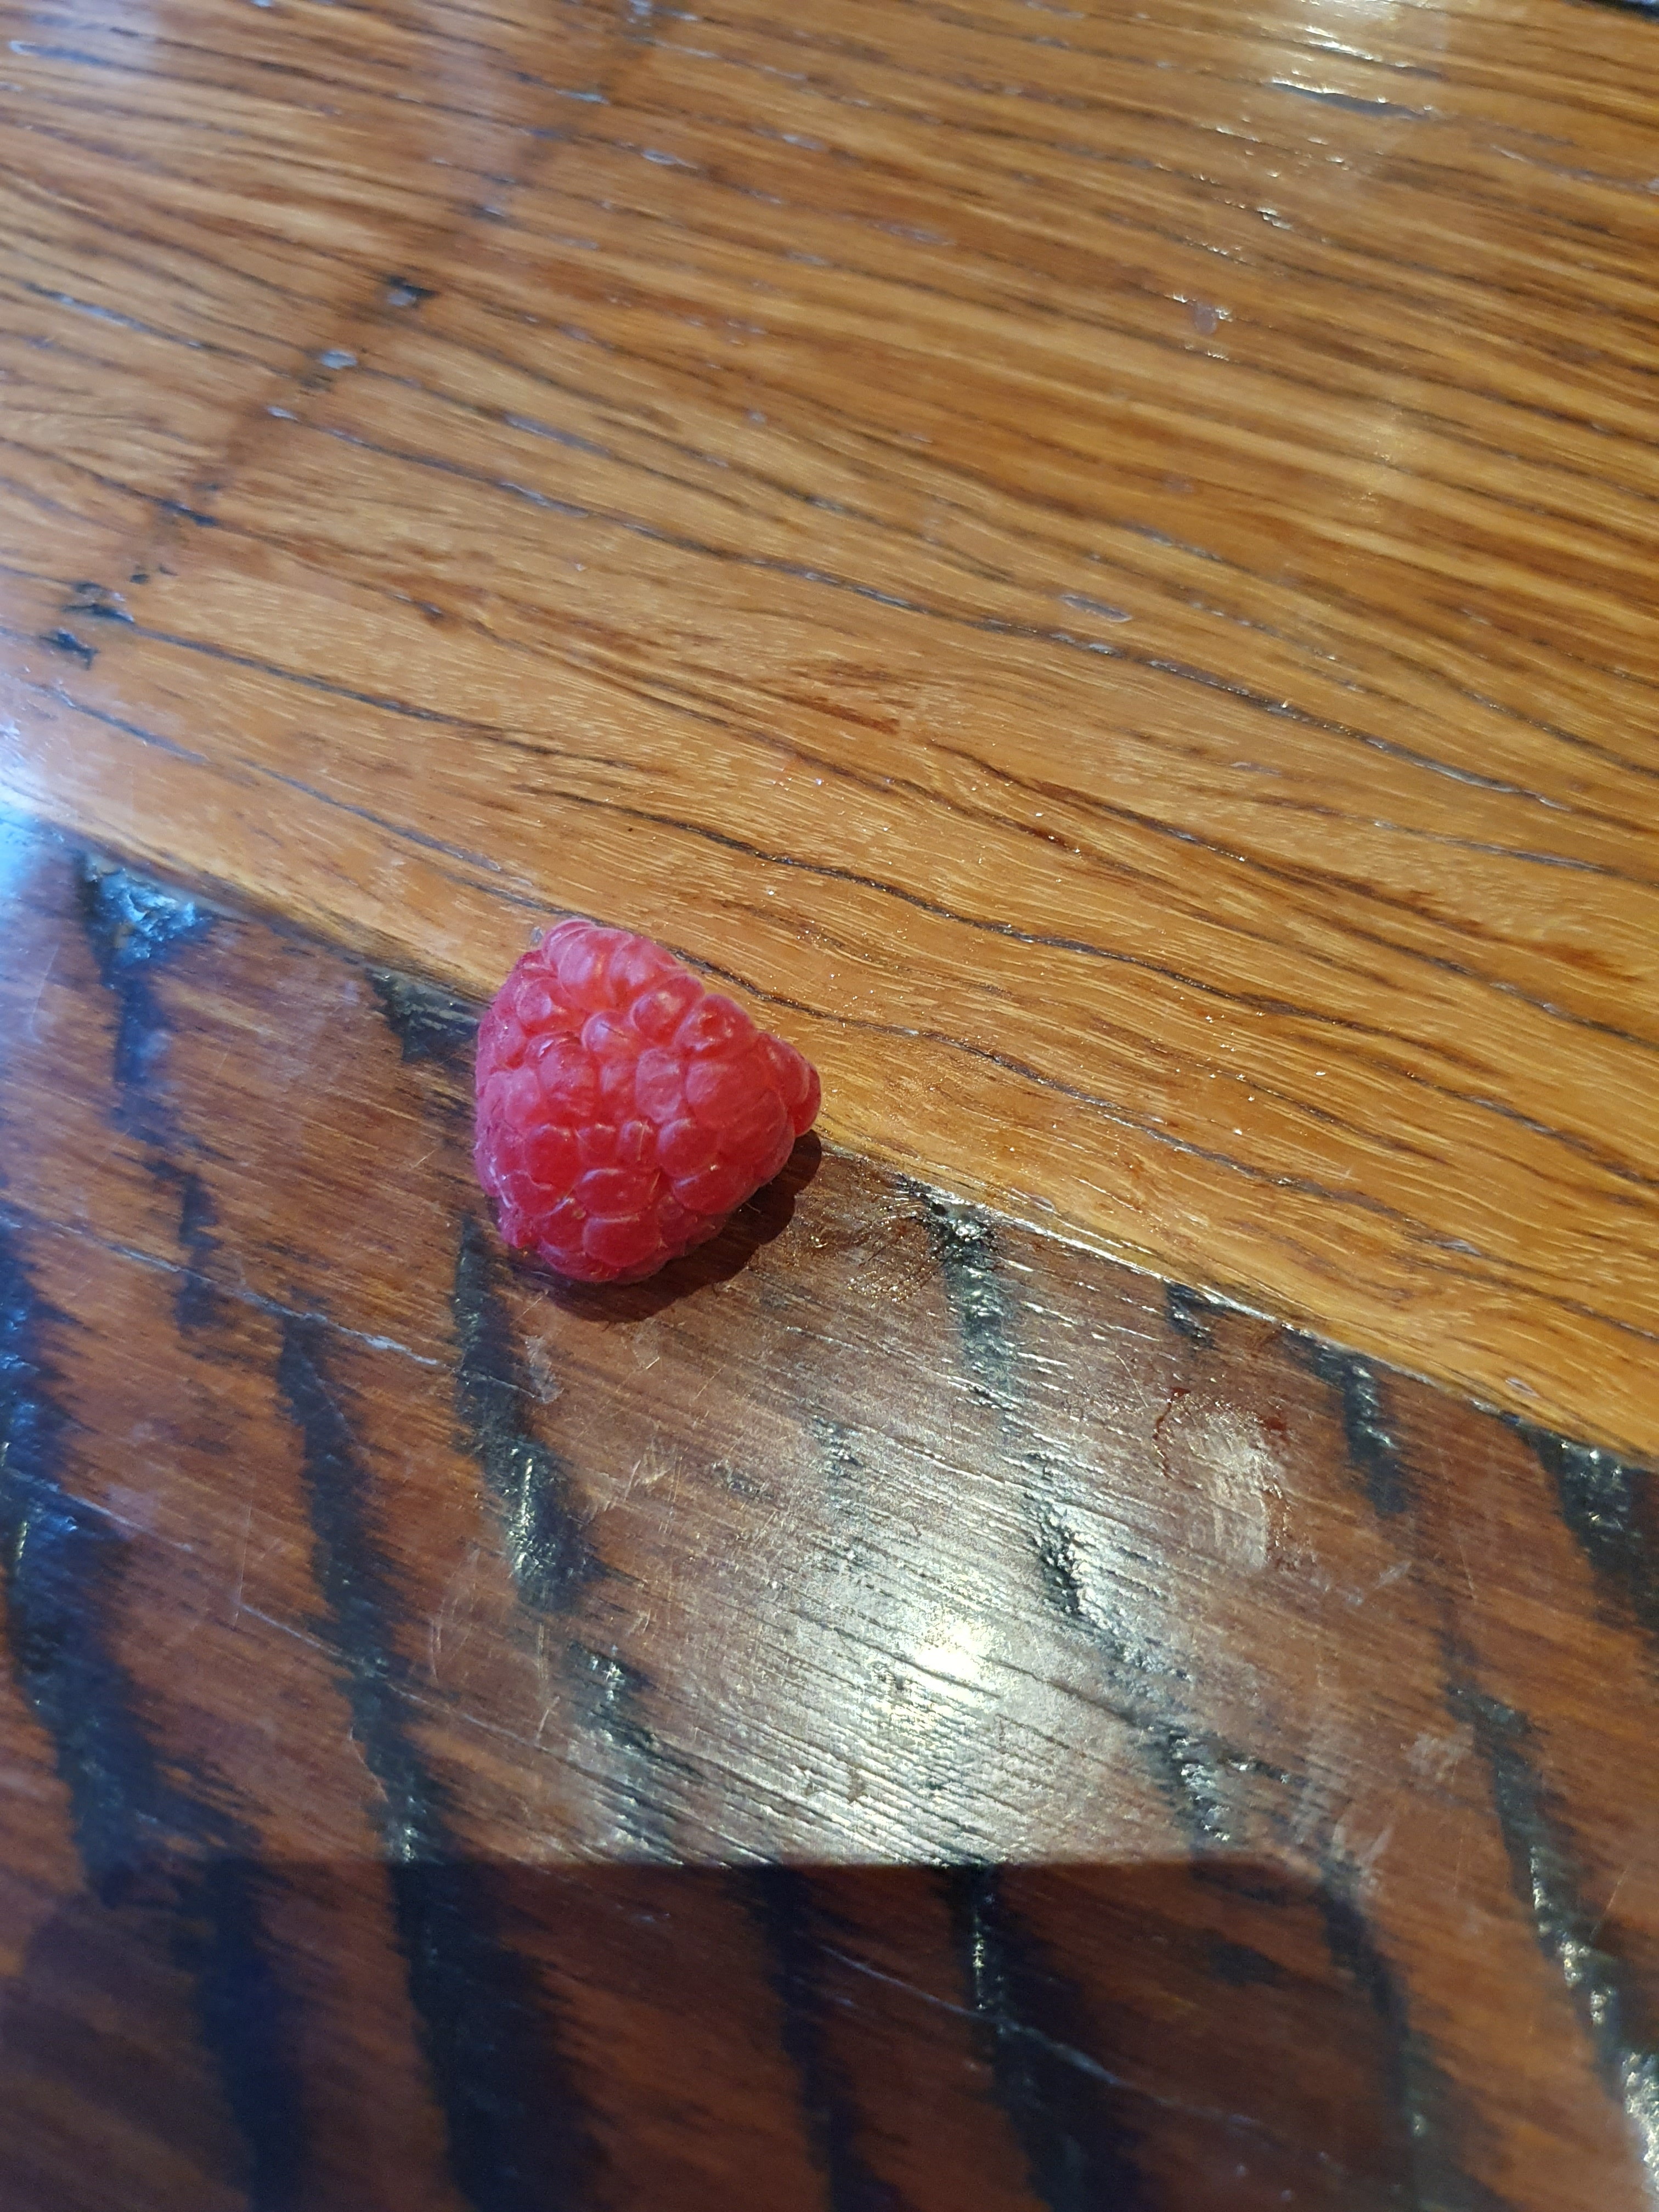raspberry: (436, 895, 856, 1334)
